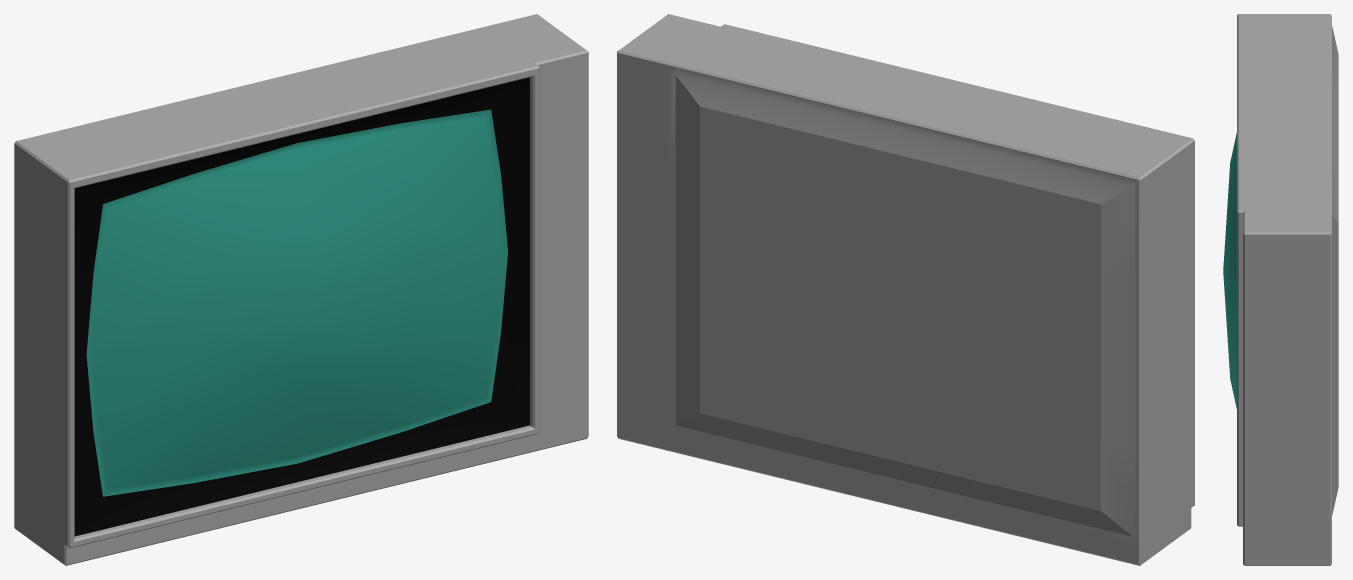
File: Tv_head.fbx
3 renders of one model, left to right at view 1: azimuth 30°, elevation 25°; view 2: azimuth 150°, elevation 25°; view 3: azimuth 270°, elevation 25°, orthographic. The views are drawn at different scales.
Visible parts, largest first — view 1: pCube1; view 2: pCube1; view 3: pCube1.
Boxes of the visible parts, <box> form: pCube1: <box>14,14,588,565</box>; pCube1: <box>617,14,1194,565</box>; pCube1: <box>1223,14,1338,565</box>.
Size of the model in its own units: 5.86 by 4.15 by 1.3.
